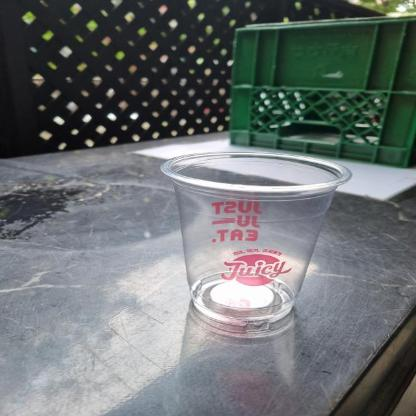Plastic Cup: (162, 152, 354, 327)
